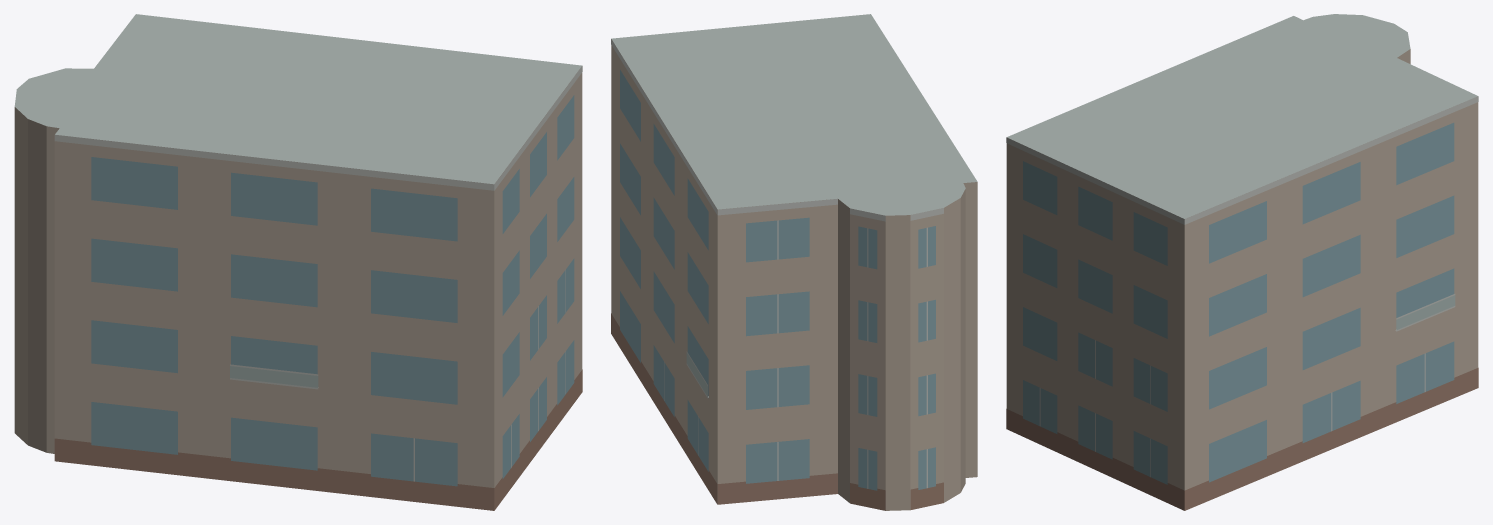
File: survey-upis-33017560.glb
3 renders of one model, left to right at view 1: azimuth 30°, elevation 25°; view 2: azimuth 150°, elevation 25°; view 3: azimuth 270°, elevation 25°, orthographic. The views are drawn at different scales.
Visible parts, largest first — view 1: survey-upis-33017560.tmp; view 2: survey-upis-33017560.tmp; view 3: survey-upis-33017560.tmp.
Boxes of the visible parts, bbox=[...] form: survey-upis-33017560.tmp: bbox=[14, 14, 582, 510]; survey-upis-33017560.tmp: bbox=[611, 14, 977, 510]; survey-upis-33017560.tmp: bbox=[1006, 14, 1478, 510].
Bounding box in the file's own units: 18.4 × 12.2 × 17.89.
